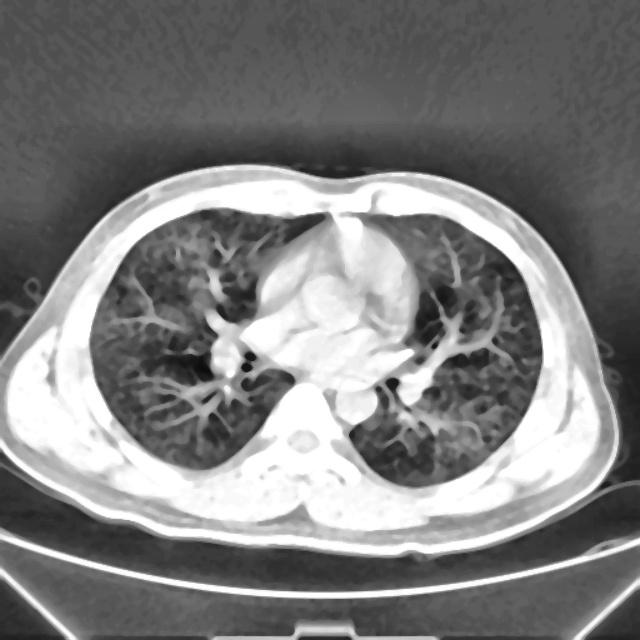covid: (1, 162, 622, 560)
